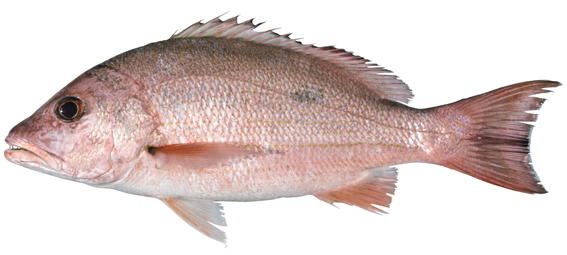fish: (3, 11, 563, 245)
